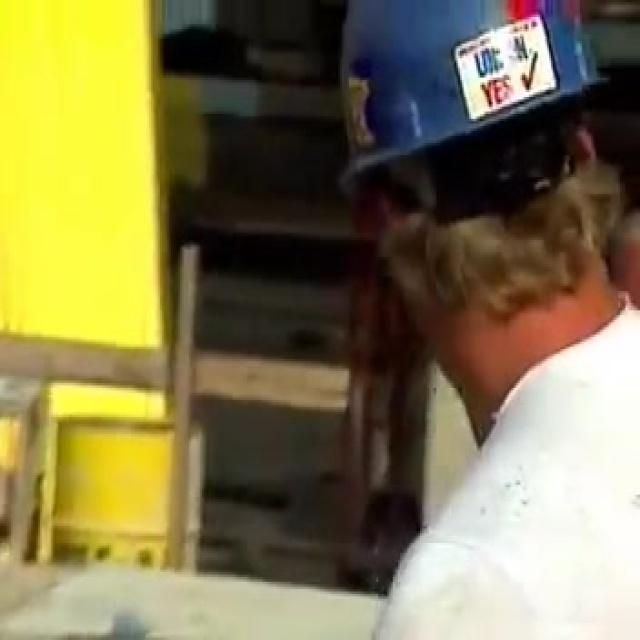helmet: (333, 0, 604, 256)
